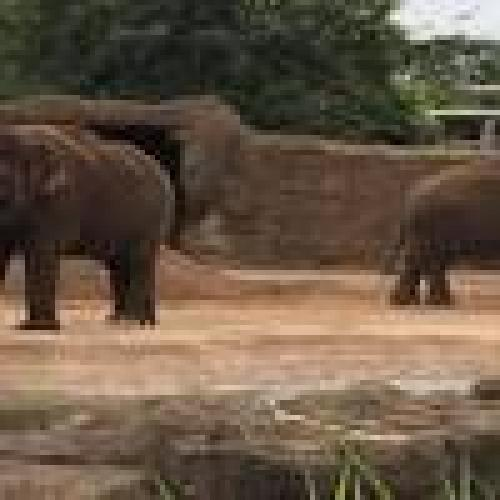asian_elephant-endangered: (0, 126, 177, 330), (384, 166, 500, 311)
